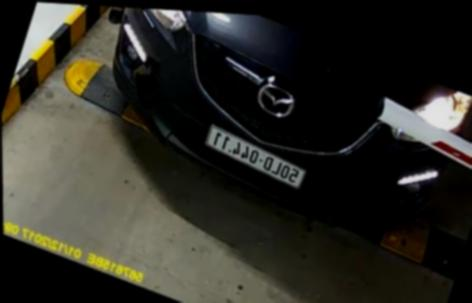License_Plate: (198, 127, 307, 195)
